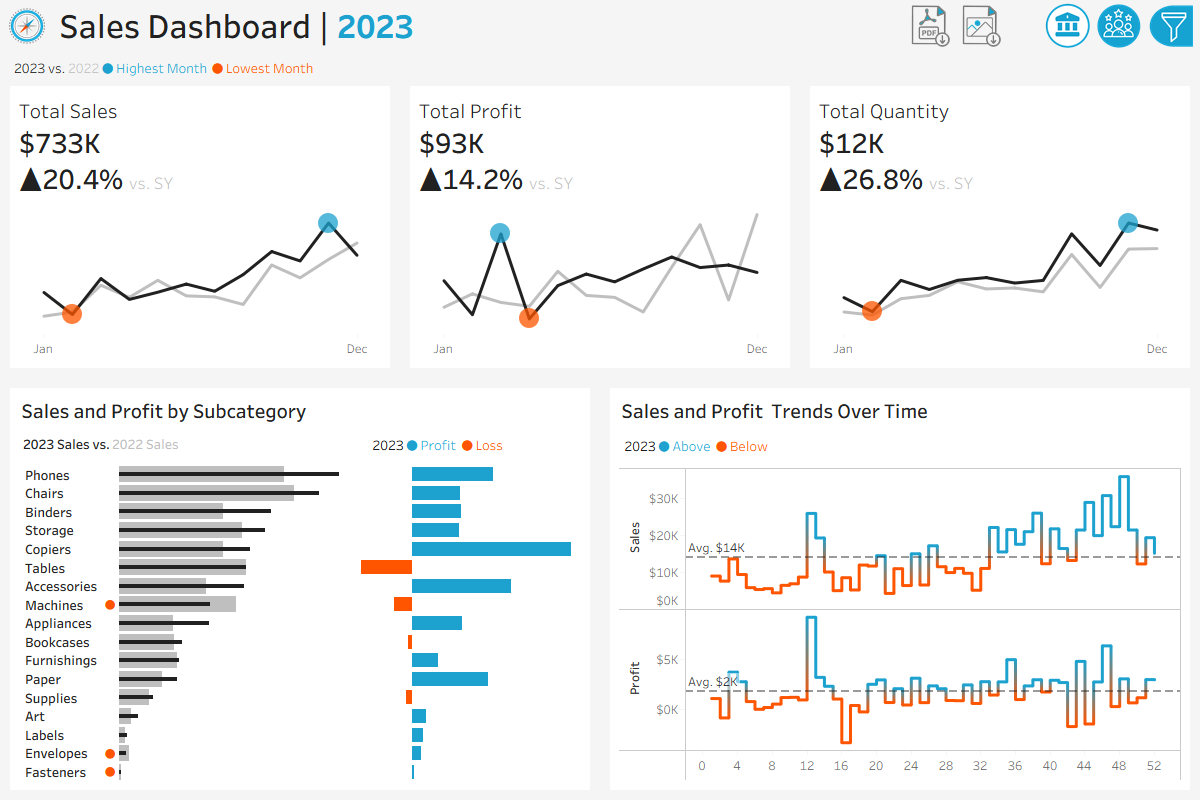

Layout of this report page (visuals, bound fields, positions):
{"tool":"tableau","page":{"name":"Sales Dashboard","canvas":[1200,800],"ordinal":1},"visuals":[{"type":"image","param":"Image/Icon - Logo.png","box":[0,0,52.7,51]},{"type":"text","box":[52.7,0,850,51]},{"type":"dashboard-object","box":[902.7,0,51,51]},{"type":"dashboard-object","box":[953.7,0,51,51]},{"type":"blank","box":[1007.3,0,35,51]},{"type":"dashboard-object","box":[1042.3,0,51,51]},{"type":"dashboard-object","box":[1093.3,0,52,51]},{"type":"dashboard-object","box":[1145.3,0,52,51]},{"type":"worksheet","title":"Legend KPI","mark":"Automatic","box":[0,51,1200,35]},{"type":"worksheet","title":"KPI Sales","mark":"Line","rows":["Calculation_0336792951341065"],"cols":["Order Date"],"box":[0,86,400,292]},{"type":"worksheet","title":"KPI Profit","mark":"Line","rows":["Min/Max Sales (copy)_0179837687046158"],"cols":["Order Date"],"box":[400,86,400,292]},{"type":"worksheet","title":"KPI Quantity","mark":"Line","rows":["Min/Max Profit (copy)_0179837689978900"],"cols":["Order Date"],"box":[800,86,400,292]},{"type":"parameter","param":"[Parameters].[Parameter 1]","box":[939,87,242,60]},{"type":"parameter","param":"[Parameters].[Choose Primary Year (copy)_0336792909492229]","box":[939,147,242,60]},{"type":"text","box":[939,207,242,50]},{"type":"filter","title":"KPI Sales","param":"[federated.0j6tzli15aromr19julgg1s33fei].[none:Category:nk]","box":[939,257,242,110]},{"type":"filter","title":"Subcategory Comparison","param":"[federated.0j6tzli15aromr19julgg1s33fei].[none:Sub-Category:nk]","box":[939,367,242,60]},{"type":"text","box":[15,393,570,35]},{"type":"text","box":[615,393,570,35]},{"type":"text","box":[939,427,242,50]},{"type":"worksheet","title":"Legend Subcategory Comparison","mark":"Automatic","box":[15,428,348,33]},{"type":"text","box":[363,428,222,33]},{"type":"text","box":[615,428,570,36]},{"type":"worksheet","title":"Subcategory Comparison","mark":"Bar","rows":["Sub-Category","Calculation_0179837695053849"],"cols":["PY Sales (copy)_0336792909484036","Calculation_0336792907505666","PY Sales (copy)_0179837686874123"],"box":[15,461,570,324]},{"type":"worksheet","title":"Weekly Trends","mark":"Line","rows":["Calculation_0336792907505666","PY Sales (copy)_0179837686874123"],"cols":["Order Date"],"box":[615,464,570,321]},{"type":"filter","title":"KPI Sales","param":"[federated.0j6tzli15aromr19julgg1s33fei].[none:Region:nk]","box":[939,477,242,130]},{"type":"filter","title":"KPI Sales","param":"[federated.0j6tzli15aromr19julgg1s33fei].[none:State:nk]","box":[939,607,242,60]},{"type":"filter","title":"KPI Sales","param":"[federated.0j6tzli15aromr19julgg1s33fei].[none:City:nk]","box":[939,667,242,60]}]}

Visuals, with their boxes in screenshot pixels (x1, y1, x2, y2), scaled from the page's 1200x800 canvas onto the 1200x800 screenshot:
image: box=[0, 0, 53, 51]
text: box=[53, 0, 903, 51]
dashboard-object: box=[903, 0, 954, 51]
dashboard-object: box=[954, 0, 1005, 51]
blank: box=[1007, 0, 1042, 51]
dashboard-object: box=[1042, 0, 1093, 51]
dashboard-object: box=[1093, 0, 1145, 51]
dashboard-object: box=[1145, 0, 1197, 51]
"Legend KPI" worksheet: box=[0, 51, 1199, 86]
"KPI Sales" worksheet (Line marks): box=[0, 86, 400, 378]
"KPI Profit" worksheet (Line marks): box=[400, 86, 800, 378]
"KPI Quantity" worksheet (Line marks): box=[800, 86, 1199, 378]
parameter: box=[939, 87, 1181, 147]
parameter: box=[939, 147, 1181, 207]
text: box=[939, 207, 1181, 257]
"KPI Sales" filter: box=[939, 257, 1181, 367]
"Subcategory Comparison" filter: box=[939, 367, 1181, 427]
text: box=[15, 393, 585, 428]
text: box=[615, 393, 1185, 428]
text: box=[939, 427, 1181, 477]
"Legend Subcategory Comparison" worksheet: box=[15, 428, 363, 461]
text: box=[363, 428, 585, 461]
text: box=[615, 428, 1185, 464]
"Subcategory Comparison" worksheet (Bar marks): box=[15, 461, 585, 785]
"Weekly Trends" worksheet (Line marks): box=[615, 464, 1185, 785]
"KPI Sales" filter: box=[939, 477, 1181, 607]
"KPI Sales" filter: box=[939, 607, 1181, 667]
"KPI Sales" filter: box=[939, 667, 1181, 727]
